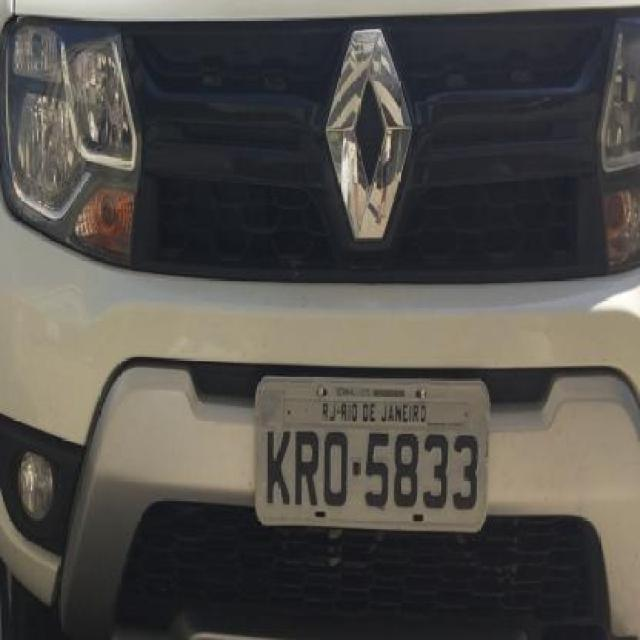old_plate: (246, 366, 499, 540)
